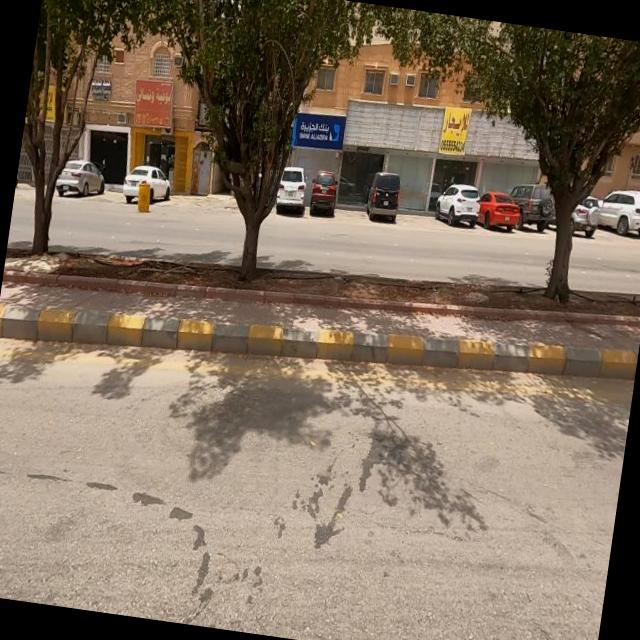debris: (291, 68, 484, 195), (429, 80, 574, 184)
